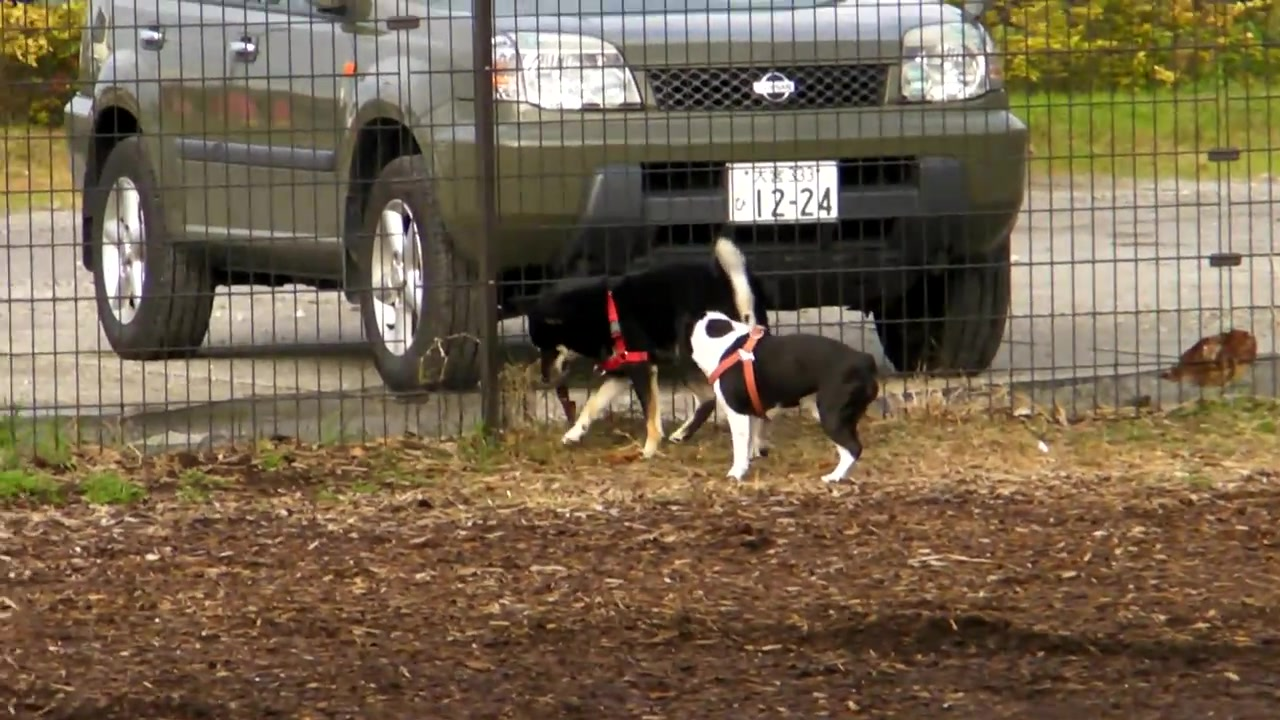dog: (672, 310, 881, 489)
